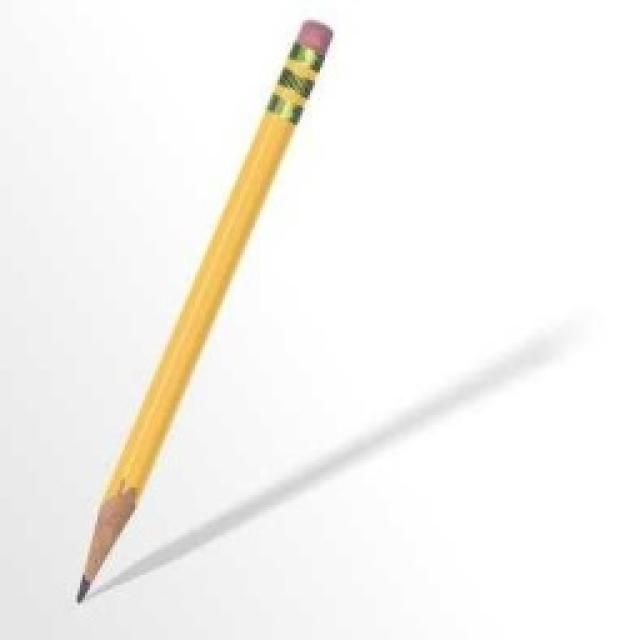pencil: (70, 15, 338, 605)
